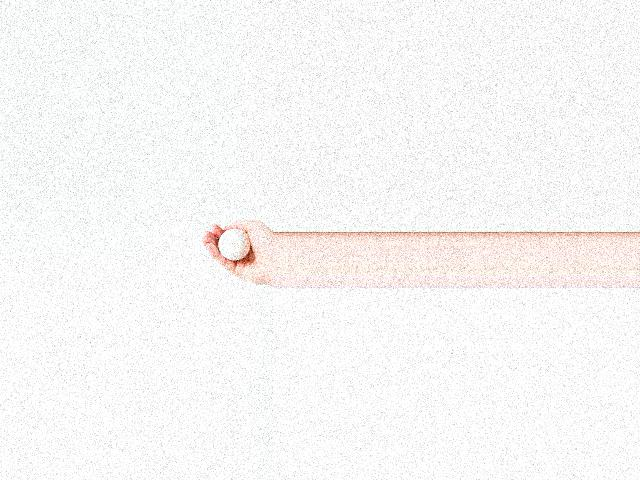egg: (217, 229, 249, 260)
